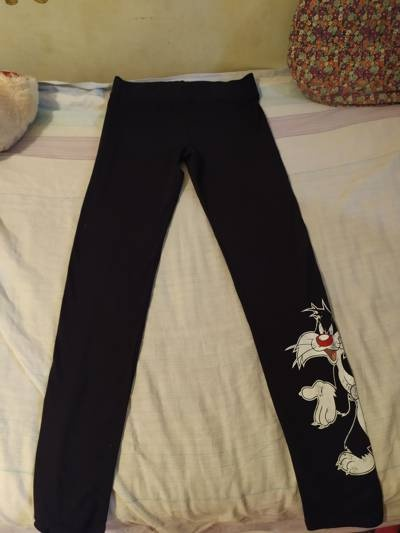Pants: (24, 44, 389, 528)
